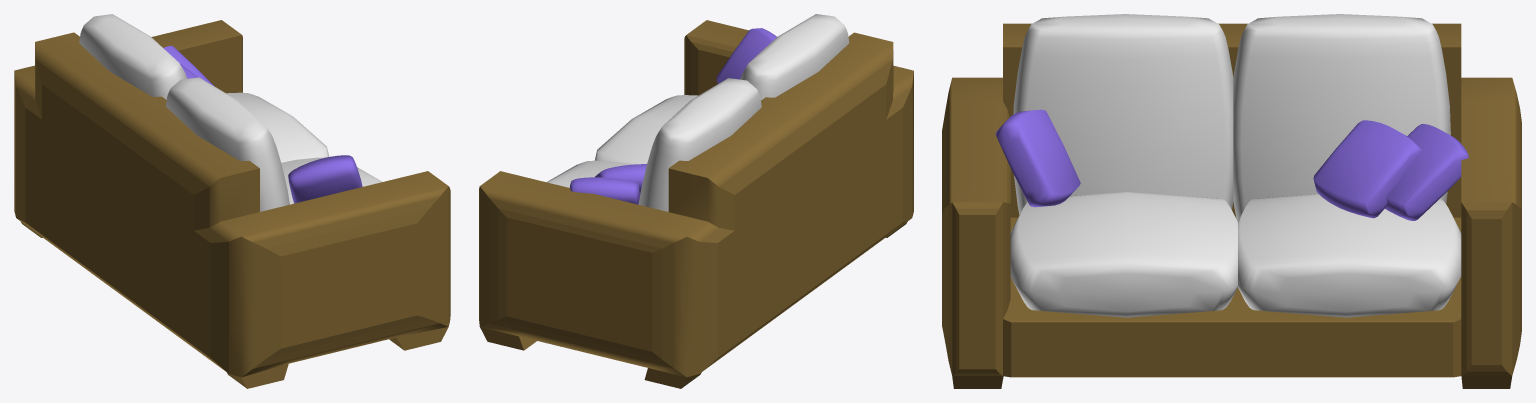
Rendered from Sofa.fbx.
The picture shows the model from 3 angles, left to right: view 1: azimuth 30°, elevation 25°; view 2: azimuth 150°, elevation 25°; view 3: azimuth 270°, elevation 25°; orthographic projection. The views are drawn at different scales.
Visible parts, largest first — view 1: Divano, Cuscino_5, Cuscino_4, Cuscino_3, Cuscino, Cuscino_6, Cuscino_1; view 2: Divano, Cuscino_4, Cuscino_5, Cuscino_6, Cuscino, Cuscino_1, Cuscino_3, Cuscino_2; view 3: Divano, Cuscino_5, Cuscino_4, Cuscino_6, Cuscino_3, Cuscino_2, Cuscino, Cuscino_1.
Part boxes in pixels (box(x1,y1,x2,y2)): Divano: box(14, 20, 450, 388); Cuscino_5: box(166, 77, 289, 211); Cuscino_4: box(79, 14, 187, 99); Cuscino_3: box(226, 92, 328, 162); Cuscino: box(288, 155, 362, 203); Cuscino_6: box(281, 157, 381, 204); Cuscino_1: box(163, 45, 214, 86); Divano: box(479, 20, 913, 388); Cuscino_4: box(638, 78, 761, 211); Cuscino_5: box(740, 14, 849, 100); Cuscino_6: box(594, 95, 697, 164); Cuscino: box(716, 28, 776, 83); Cuscino_1: box(569, 177, 639, 204); Cuscino_3: box(546, 160, 633, 187); Cuscino_2: box(595, 164, 646, 196); Divano: box(942, 23, 1521, 388); Cuscino_5: box(1013, 14, 1233, 214); Cuscino_4: box(1233, 14, 1450, 221); Cuscino_6: box(1010, 192, 1237, 317); Cuscino_3: box(1238, 194, 1461, 317); Cuscino_2: box(1313, 120, 1421, 218); Cuscino: box(995, 109, 1080, 207); Cuscino_1: box(1385, 124, 1468, 220).
Size of the model in its own units: 1.52 by 1.46 by 2.74.
